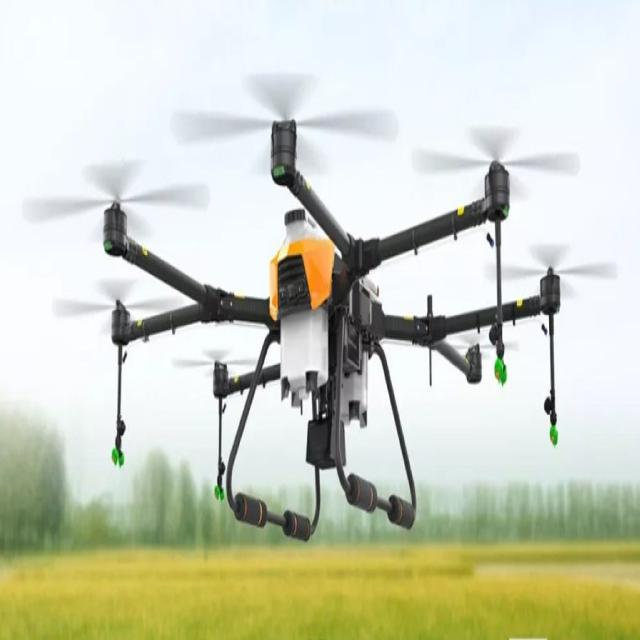drone: (20, 49, 619, 546)
